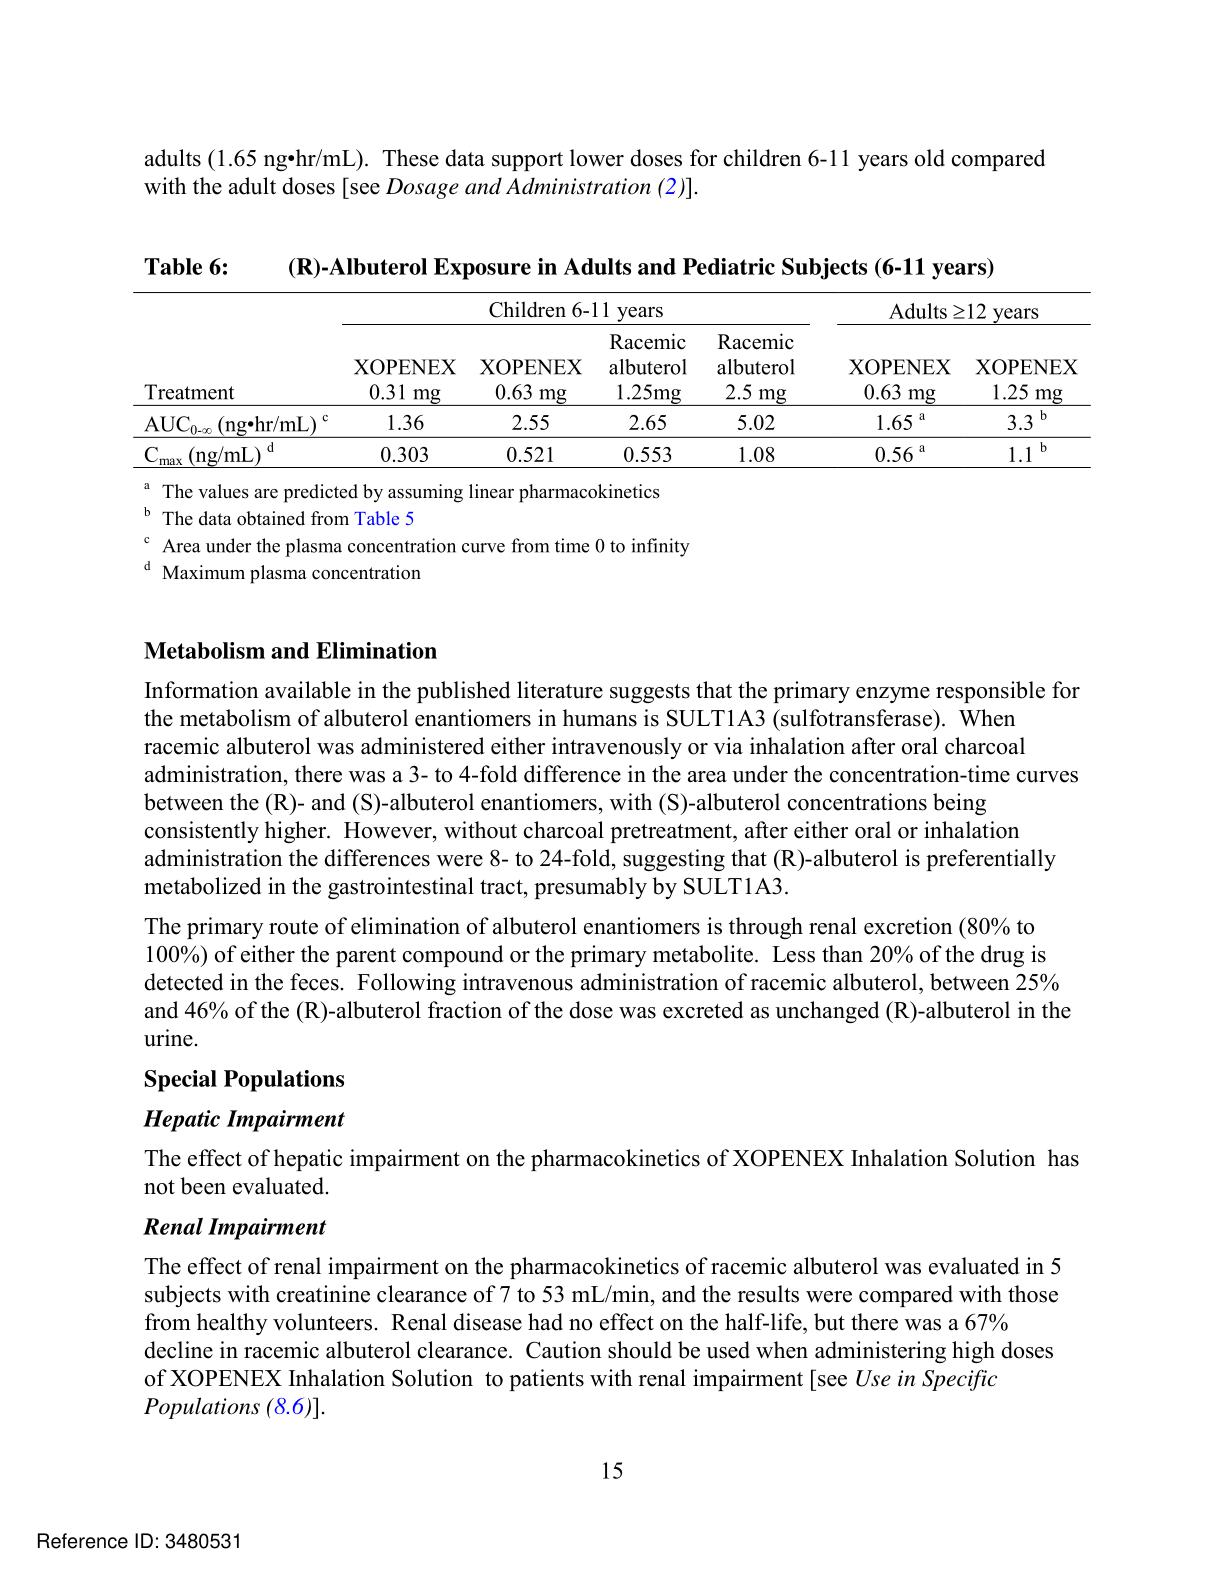partial_lined_merged_cells: (130, 291, 1092, 471)
